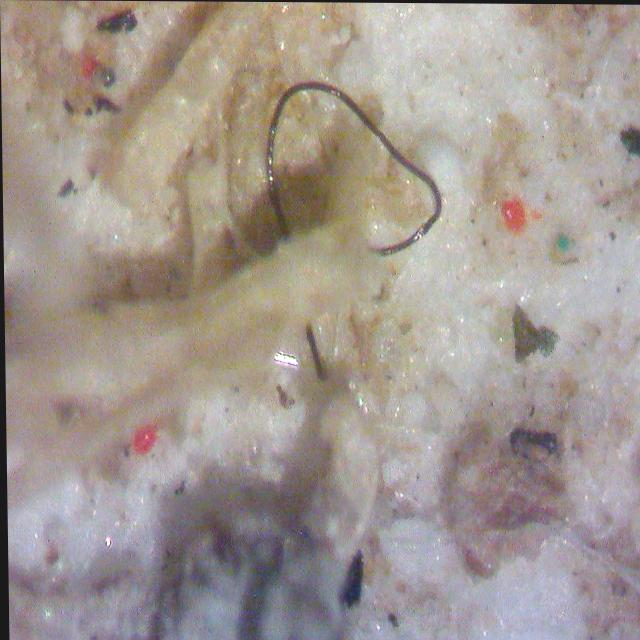microplastic: (245, 57, 478, 382)
